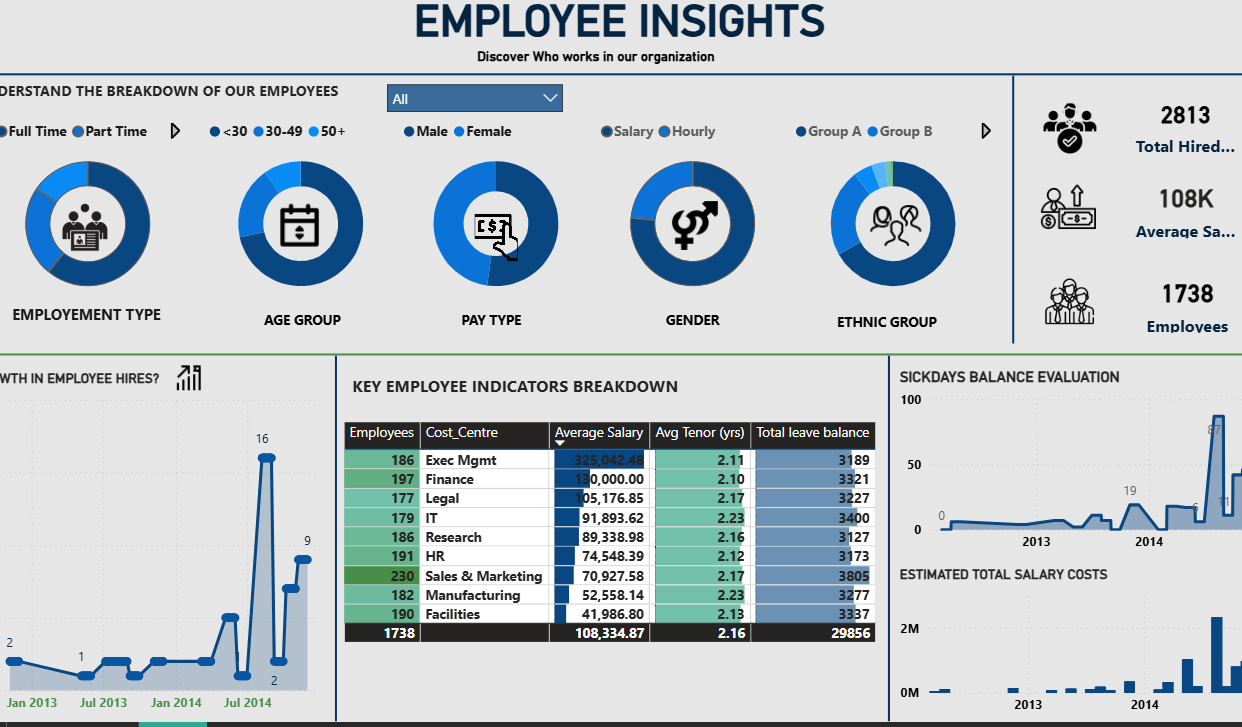

What the dashboard file says about the page in this screenshot:
{"tool":"powerbi","page":{"name":"Page 1","canvas":[1280,720],"ordinal":0},"visuals":[{"type":"donutChart","title":"EMPLOYEE TYPE","fields":{"Y":["Key_metrics.Total salarycredited"],"Category":["Employee_insights.Work_Type"]},"box":[20.5,119.2,192,193],"z":0},{"type":"donutChart","fields":{"Y":["Key_metrics.Total salarycredited"],"Category":["Employee_insights.AgeGroup"]},"box":[231,118.5,190.8,192.8],"z":1000},{"type":"donutChart","fields":{"Y":["Key_metrics.Total salarycredited"],"Category":["Employee_insights.Gender"]},"box":[421.8,118.5,192.8,192.8],"z":2000},{"type":"donutChart","fields":{"Y":["Key_metrics.Total salarycredited"],"Category":["Employee_insights.PayType"]},"box":[616.7,118.5,190.8,192.8],"z":3000},{"type":"donutChart","fields":{"Y":["Key_metrics.Total salarycredited"],"Category":["Employee_insights.EthnicGroup"]},"box":[807.5,118.5,202.9,192.8],"z":4000},{"type":"shape","box":[0,325.4,1279.6,66.3],"z":5000},{"type":"areaChart","title":"GROWTH IN EMPLOYEE HIRES?","fields":{"Y":["Key_metrics.Employees"],"Category":["MTD.Date"]},"box":[0,373.9,361.6,345.2],"z":6000},{"type":"tableEx","title":"KEY EMPLOYEE INDICATORS BREAKDOWN","fields":{"Values":["Key_metrics.Employees","Employee_insights.Cost_Centre","Key_metrics.Average Salary","Key_metrics.Avg Tenor (yrs)","Key_metrics.Total leave balance"]},"box":[363.6,419.8,540.4,281.2],"z":7000},{"type":"areaChart","title":"SICKDAYS BALANCE EVALUATION","fields":{"Y":["Key_metrics.Total Sick Days"],"Category":["MTD.Date"]},"box":[910,371.6,369.6,188.8],"z":8000},{"type":"columnChart","title":"ESTIMATED TOTAL SALARY COSTS","fields":{"Y":["Key_metrics.Total salarycost"],"Category":["MTD.Date"]},"box":[910,566.5,369.6,154.7],"z":9000},{"type":"card","fields":{"Values":["Key_metrics.Total Hired Employees"]},"box":[1141,98.4,110.5,68.3],"z":10000},{"type":"card","fields":{"Values":["Key_metrics.Average Salary"]},"box":[1141,180.8,110.5,68.3],"z":11000},{"type":"card","fields":{"Values":["Key_metrics.Employees"]},"box":[1143,273.2,110.5,68.3],"z":12000},{"type":"shape","box":[0,32.1,1279.6,100.4],"z":13000},{"type":"textbox","box":[0,0,1279.6,82.4],"z":14000},{"type":"textbox","box":[385.7,50.2,462,48.2],"z":15000},{"type":"shape","box":[970.3,84.4,112.5,263.2],"z":16000},{"type":"shape","box":[847.7,359.6,112.5,359.6],"z":17000},{"type":"shape","box":[305.3,359.6,112.5,359.6],"z":18000},{"type":"image","box":[1052.6,277.2,58.3,58.3],"z":19000},{"type":"image","box":[1048.6,172.8,66.3,82.4],"z":20000},{"type":"image","box":[1050.6,100.4,62.3,72.3],"z":21000},{"type":"textbox","box":[0,303.3,231,32.1],"z":22000},{"type":"textbox","box":[233,309.4,190.8,32.1],"z":23000},{"type":"textbox","box":[807.5,311.4,190.8,32.1],"z":24000},{"type":"textbox","box":[616.7,309.4,190.8,32.1],"z":25000},{"type":"textbox","box":[417.8,309.4,190.8,32.1],"z":26000},{"type":"textbox","box":[361.6,373.6,351.5,48.2],"z":27000},{"type":"textbox","box":[2,84.4,516.3,52.2],"z":28000},{"type":"slicer","fields":{"Values":["Employee_insights.Business_Unit"]},"box":[401.8,82.4,192.8,50.2],"z":29000},{"type":"image","box":[492.2,214.9,52.2,56.2],"z":30000},{"type":"image","box":[76.3,188.8,76.3,88.4],"z":31000},{"type":"image","box":[683,196.9,58.3,70.3],"z":32000},{"type":"image","box":[285.3,202.9,78.3,60.3],"z":33000},{"type":"image","box":[875.8,200.9,70.3,60.3],"z":34000},{"type":"image","box":[180.8,359.6,70.3,42.2],"z":35000}]}

Visuals, with their boxes on the page's 1280x720 design canvas (x1, y1, x2, y2). These are canvas units, not pixel positions in the 1242x727 screenshot, which may show the page scaled, cropped or inside an application window:
"EMPLOYEE TYPE" donutChart: 20, 119, 212, 312
donutChart - Key_metrics.Total salarycredited x Employee_insights.AgeGroup: 231, 118, 422, 311
donutChart - Key_metrics.Total salarycredited x Employee_insights.Gender: 422, 118, 615, 311
donutChart - Key_metrics.Total salarycredited x Employee_insights.PayType: 617, 118, 808, 311
donutChart - Key_metrics.Total salarycredited x Employee_insights.EthnicGroup: 808, 118, 1010, 311
shape: 0, 325, 1280, 392
"GROWTH IN EMPLOYEE HIRES?" areaChart: 0, 374, 362, 719
"KEY EMPLOYEE INDICATORS BREAKDOWN" tableEx: 364, 420, 904, 701
"SICKDAYS BALANCE EVALUATION" areaChart: 910, 372, 1280, 560
"ESTIMATED TOTAL SALARY COSTS" columnChart: 910, 566, 1280, 721
card - Key_metrics.Total Hired Employees: 1141, 98, 1252, 167
card - Key_metrics.Average Salary: 1141, 181, 1252, 249
card - Key_metrics.Employees: 1143, 273, 1254, 342
shape: 0, 32, 1280, 132
textbox: 0, 0, 1280, 82
textbox: 386, 50, 848, 98
shape: 970, 84, 1083, 348
shape: 848, 360, 960, 719
shape: 305, 360, 418, 719
image: 1053, 277, 1111, 336
image: 1049, 173, 1115, 255
image: 1051, 100, 1113, 173
textbox: 0, 303, 231, 335
textbox: 233, 309, 424, 342
textbox: 808, 311, 998, 344
textbox: 617, 309, 808, 342
textbox: 418, 309, 609, 342
textbox: 362, 374, 713, 422
textbox: 2, 84, 518, 137
slicer - Employee_insights.Business_Unit: 402, 82, 595, 133
image: 492, 215, 544, 271
image: 76, 189, 153, 277
image: 683, 197, 741, 267
image: 285, 203, 364, 263
image: 876, 201, 946, 261
image: 181, 360, 251, 402
